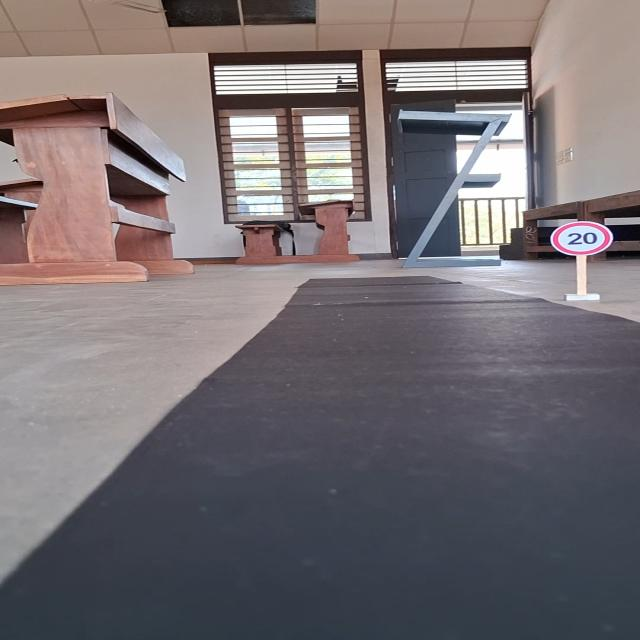Speed20: (540, 217, 619, 257)
